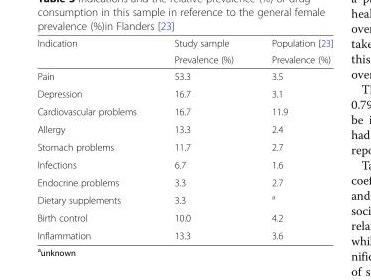table: (36, 36, 332, 240)
table column: (36, 36, 154, 240), (154, 36, 251, 240), (251, 36, 332, 240)
table column header: (36, 36, 332, 67)
table row: (36, 84, 332, 102), (36, 102, 332, 120), (36, 137, 332, 155), (36, 155, 332, 173), (36, 190, 332, 208), (36, 208, 332, 226), (36, 50, 332, 67), (36, 67, 332, 84), (36, 120, 332, 137), (36, 173, 332, 190), (36, 36, 332, 50), (36, 226, 332, 240)
table spanning cell: (36, 36, 154, 67), (154, 36, 251, 67), (251, 36, 332, 67)
